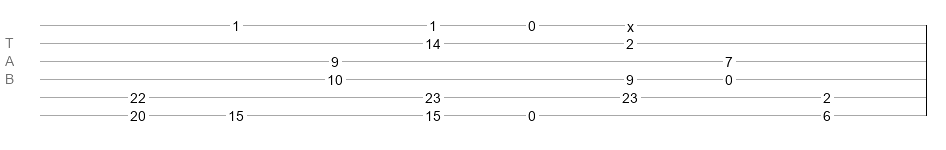0: (528, 18, 536, 28), (528, 108, 536, 118), (725, 72, 733, 82)
1: (232, 18, 240, 28), (429, 18, 437, 28)
10: (327, 72, 343, 82)
14: (425, 36, 441, 46)
15: (228, 108, 244, 118), (425, 108, 441, 118)
2: (626, 36, 634, 46), (823, 90, 831, 100)
20: (130, 108, 146, 118)
22: (130, 90, 146, 100)
23: (425, 90, 441, 100), (622, 90, 638, 100)
6: (823, 108, 831, 118)
7: (725, 54, 733, 64)
9: (331, 54, 339, 64), (626, 72, 634, 82)
x: (627, 19, 634, 27)
